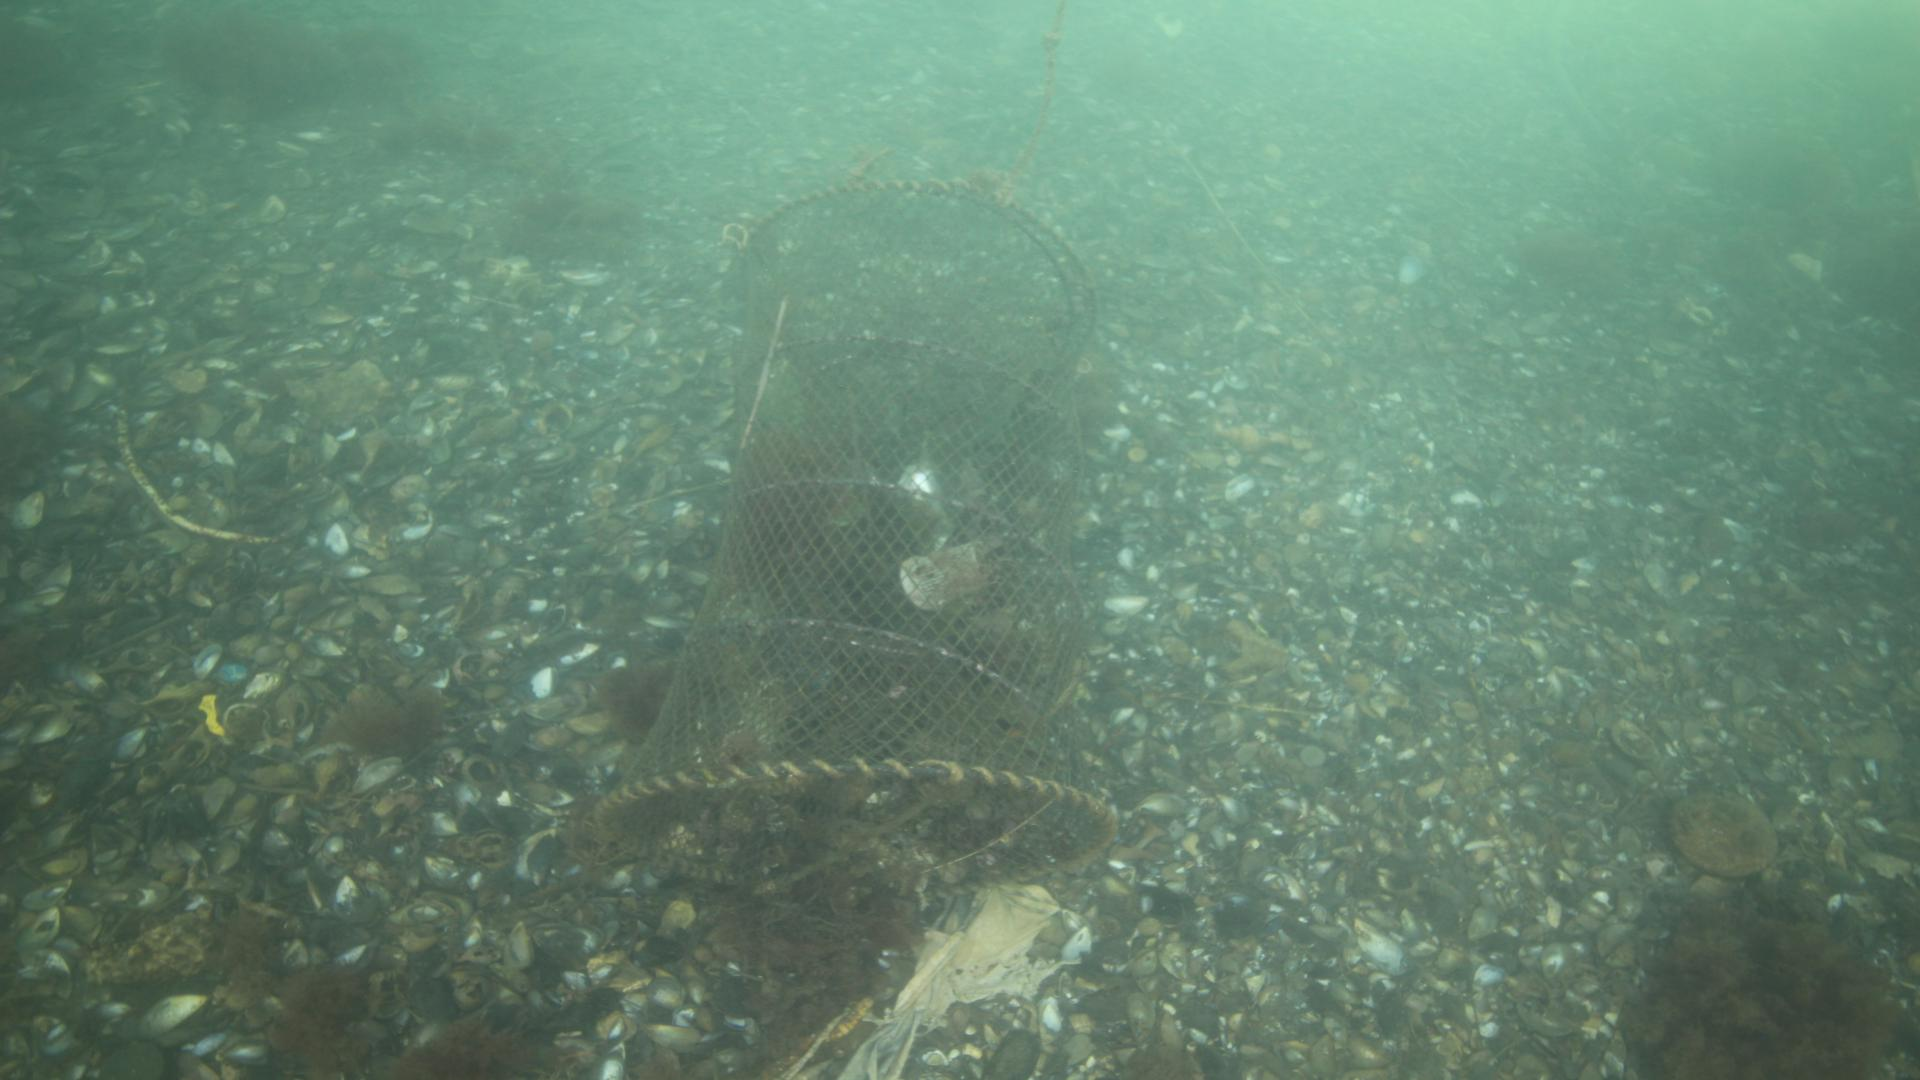rope: (998, 3, 1077, 179)
spring fish trap: (589, 175, 1116, 886)
